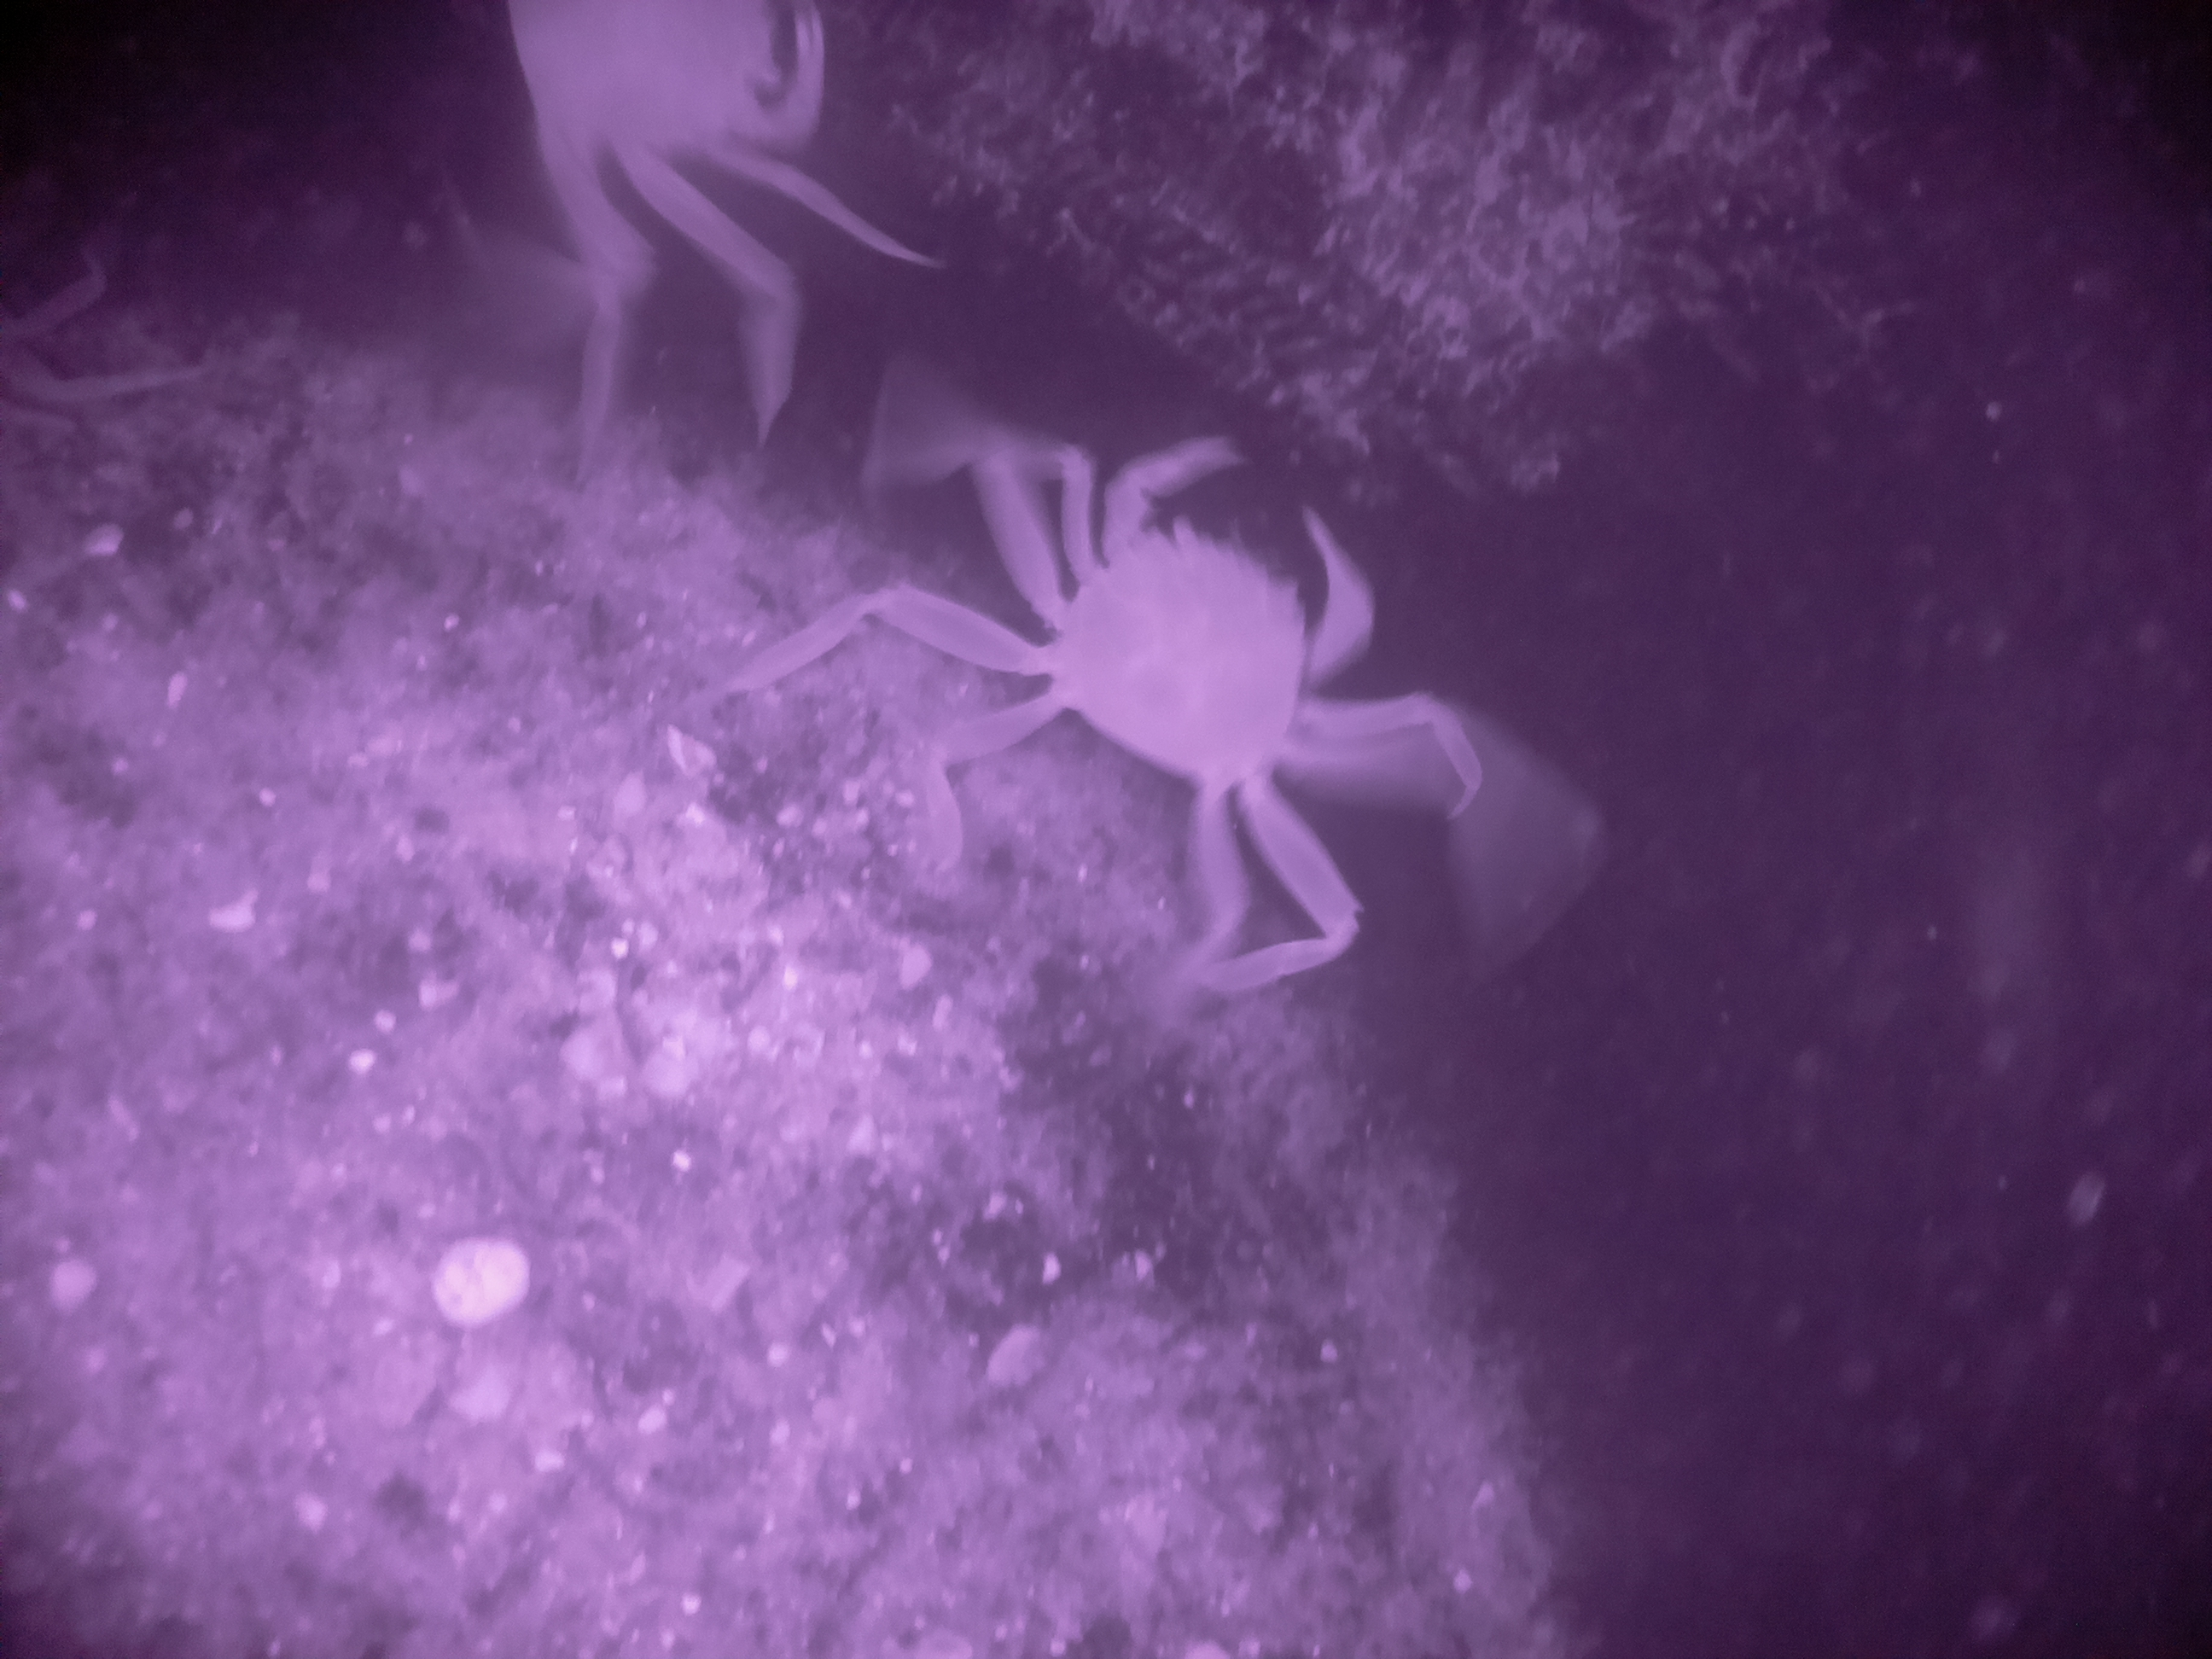Crab: (979, 340, 1440, 995)
